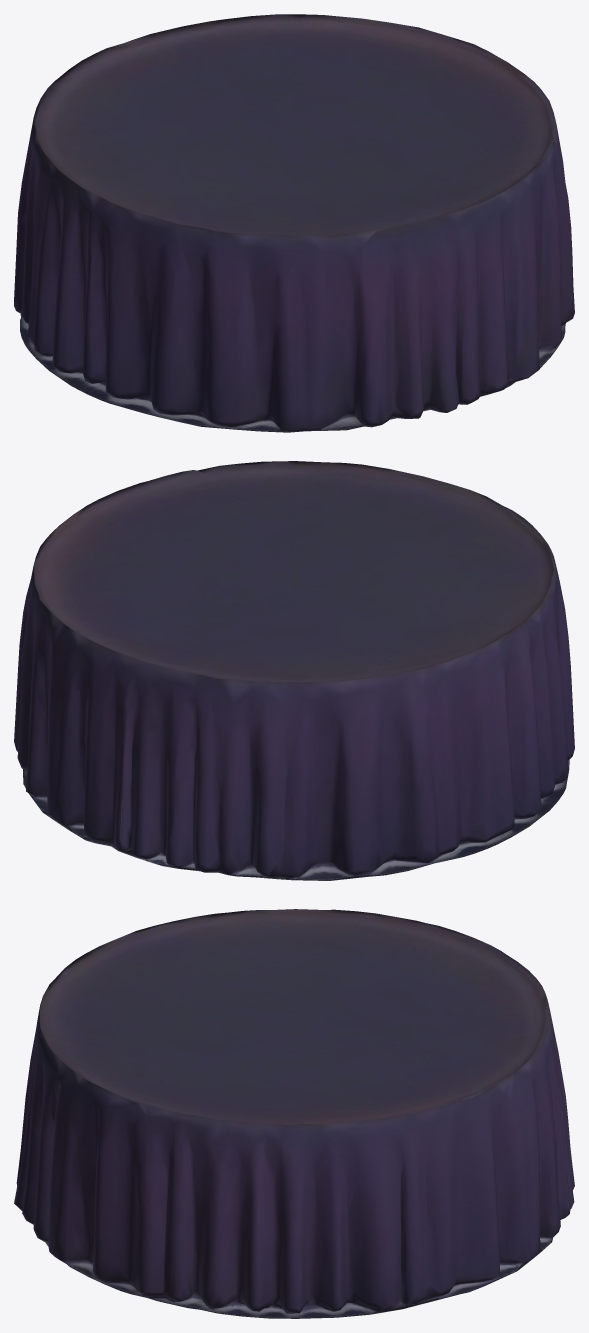
The model's file is meja_bundar_hitam.glb.
3 renders of one model, top to bottom at view 1: azimuth 30°, elevation 25°; view 2: azimuth 150°, elevation 25°; view 3: azimuth 270°, elevation 25°, orthographic.
Visible parts, largest first — view 1: tripo_node_affcfdf9-f292-4d26-bcff-ab563487553d; view 2: tripo_node_affcfdf9-f292-4d26-bcff-ab563487553d; view 3: tripo_node_affcfdf9-f292-4d26-bcff-ab563487553d.
Boxes of the visible parts, x1,y1,x2,y2 form: tripo_node_affcfdf9-f292-4d26-bcff-ab563487553d: (14, 14, 574, 432); tripo_node_affcfdf9-f292-4d26-bcff-ab563487553d: (14, 461, 574, 880); tripo_node_affcfdf9-f292-4d26-bcff-ab563487553d: (14, 909, 574, 1318).
Bounding box in the file's own units: 0.9887 × 0.3764 × 1.
Materials: 1 (1 with a texture image).
